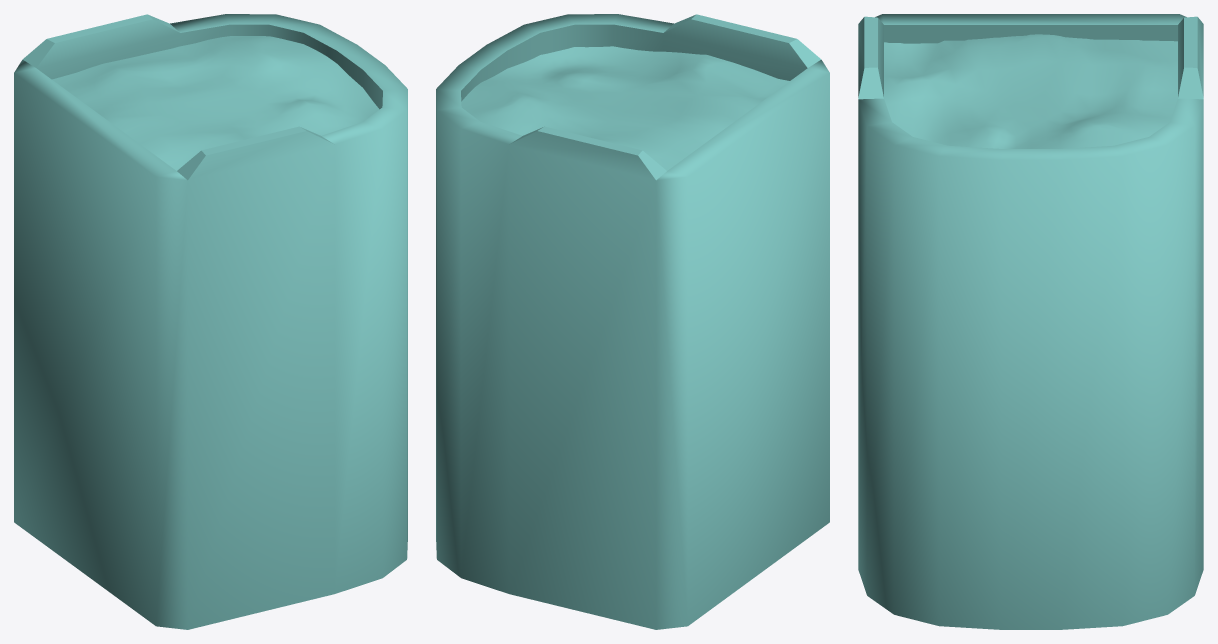
The model's file is pot_plante.FBX.
The picture shows the model from 3 angles, left to right: view 1: azimuth 30°, elevation 25°; view 2: azimuth 150°, elevation 25°; view 3: azimuth 270°, elevation 25°; orthographic projection. The views are drawn at different scales.
Visible parts, largest first — view 1: Box001; view 2: Box001; view 3: Box001.
Boxes of the visible parts, x1,y1,x2,y2 form: Box001: (14,14,407,629); Box001: (436,14,829,629); Box001: (858,14,1203,629).
Size of the model in its own units: 40 by 62.35 by 40.
